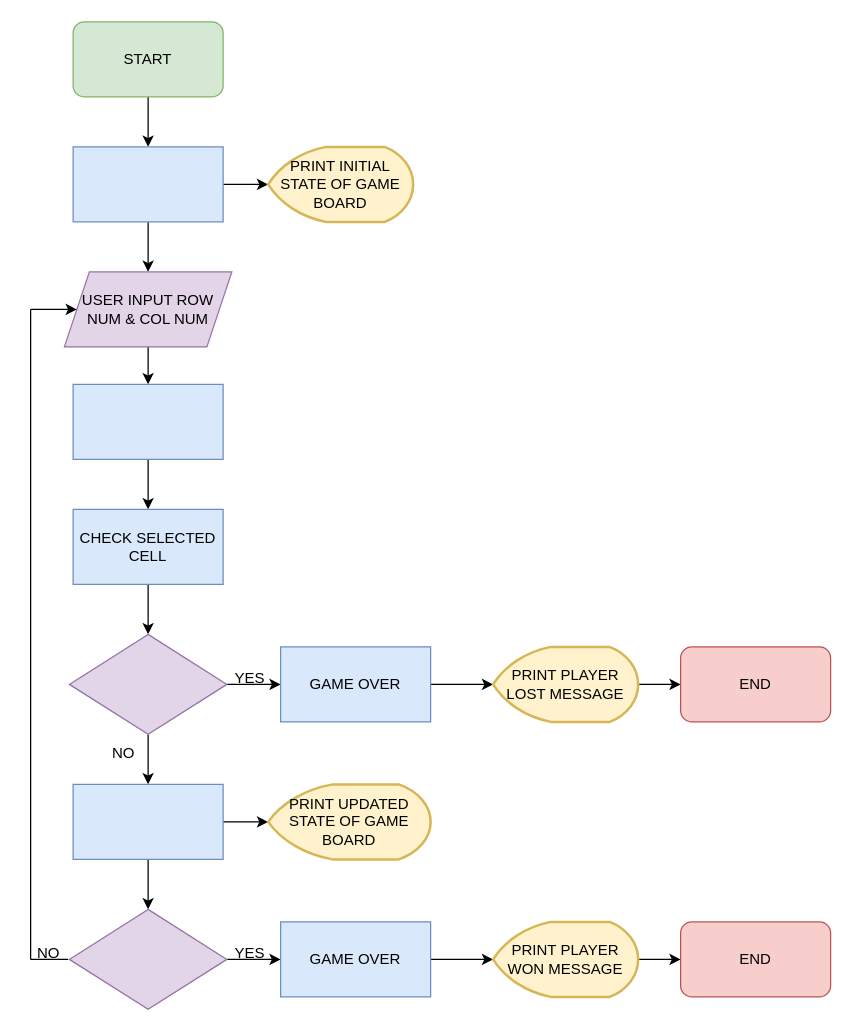
Some shapes in this 853 by 1031 pixel diagram are drawn without their labels. Each missing label, with the box of its shape:
INITIALIZE THE GAME BOARD: (72, 146, 223, 222)
IS CELL LIVE?: (68, 633, 227, 734)
PLAYER WIN?: (68, 908, 227, 1009)
UPDATE GAME BOARD STATE: (72, 783, 223, 859)
VALIDATE USER INPUT: (72, 383, 223, 459)
